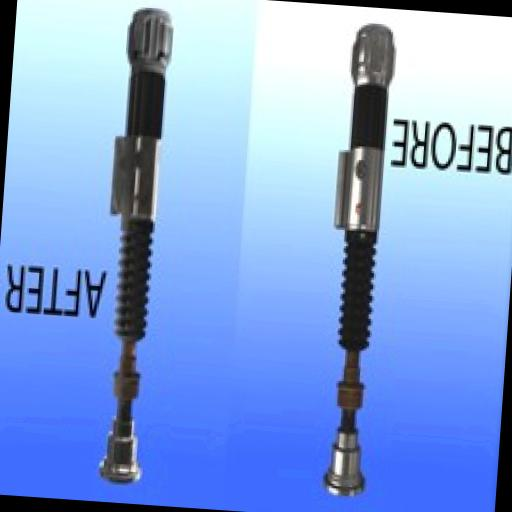lightsaber: (314, 20, 400, 496), (91, 6, 174, 485)
